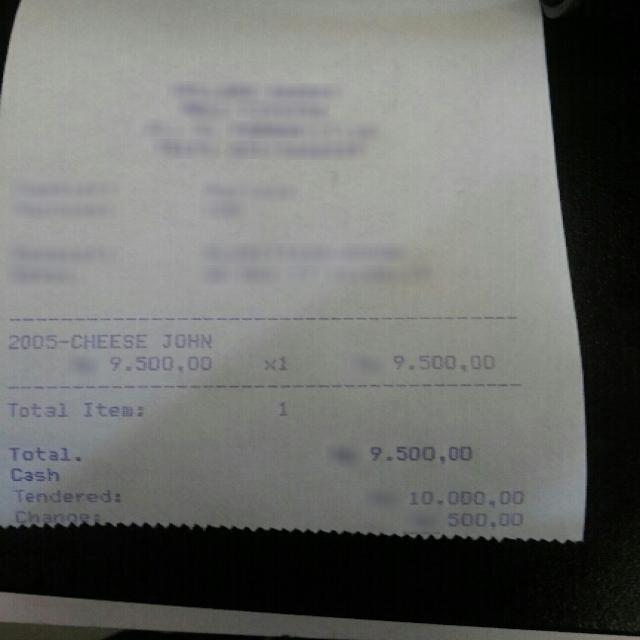kertas: (1, 0, 586, 540)
